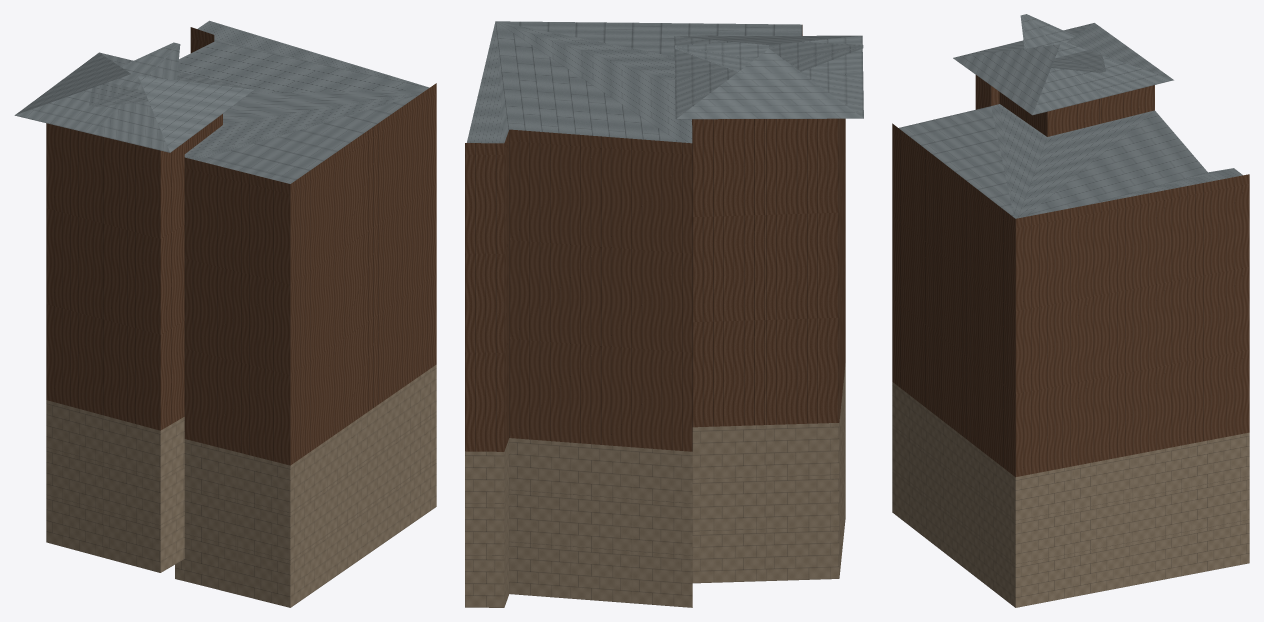
The model's file is bld_c10_18_437.gltf.
The picture shows the model from 3 angles, left to right: view 1: azimuth 30°, elevation 25°; view 2: azimuth 150°, elevation 25°; view 3: azimuth 270°, elevation 25°; orthographic projection. The views are drawn at different scales.
Visible parts, largest first — view 1: bld_c10_18_437; view 2: bld_c10_18_437; view 3: bld_c10_18_437.
Boxes of the visible parts, x1,y1,x2,y2 form: bld_c10_18_437: (14, 20, 436, 607); bld_c10_18_437: (465, 21, 863, 607); bld_c10_18_437: (892, 14, 1249, 607).
Bounding box in the file's own units: 14.21 × 17.2 × 12.64.
Materials: 4 (4 with a texture image).
